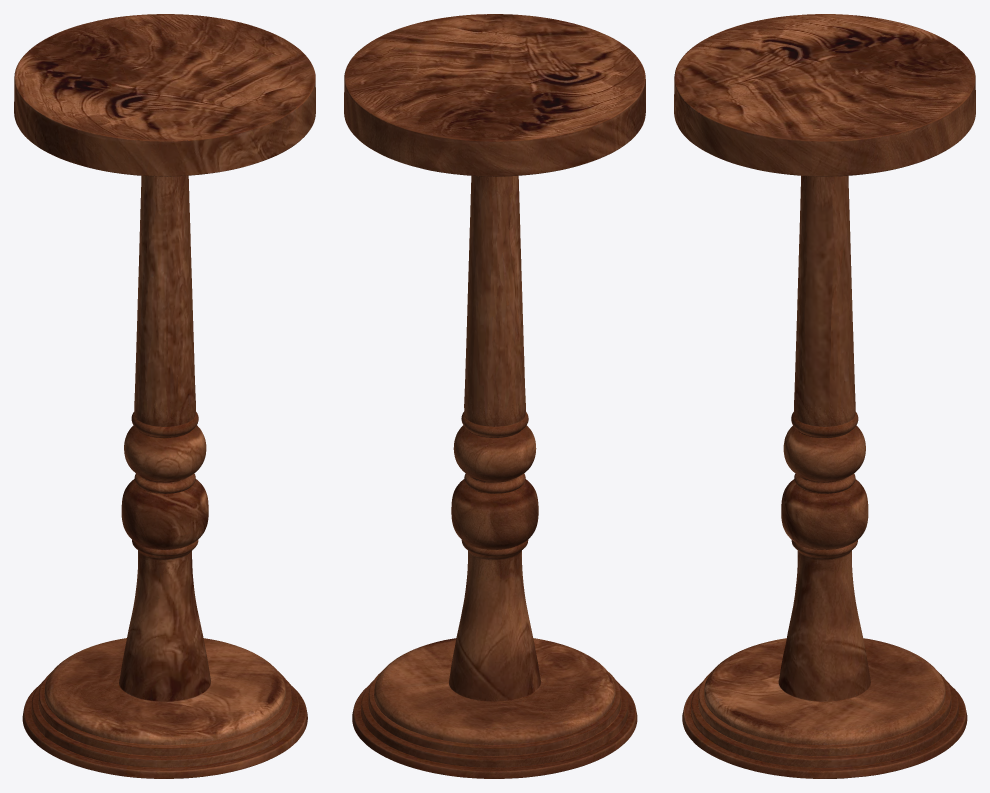
Rendered from onlinecraft-farm-house-living-room-bed-side-sofa-side-home-d.glb.
3 renders of one model, left to right at view 1: azimuth 30°, elevation 25°; view 2: azimuth 150°, elevation 25°; view 3: azimuth 270°, elevation 25°, orthographic.
Visible parts, largest first — view 1: Mesh_0; view 2: Mesh_0; view 3: Mesh_0.
Boxes of the visible parts, left/top/right/bottom form: Mesh_0: left=14, top=14, right=315, bottom=778; Mesh_0: left=344, top=14, right=645, bottom=778; Mesh_0: left=674, top=14, right=975, bottom=778.
Bounding box in the file's own units: 0.8109 × 1.9 × 0.8112.
1 material, 1 textured.
